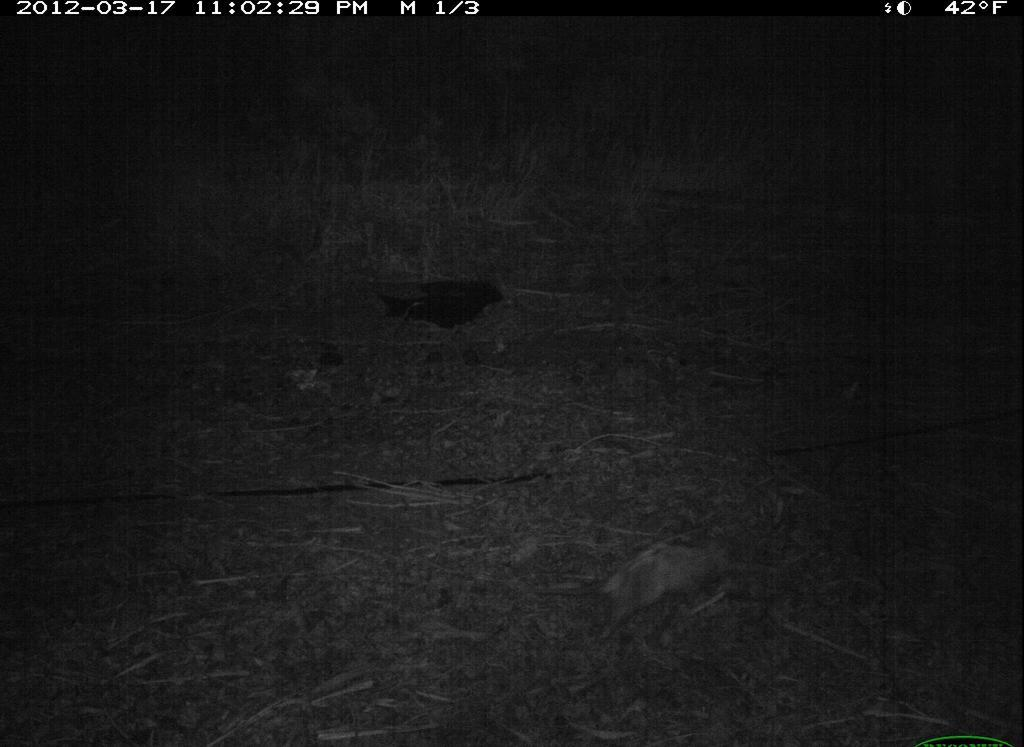opossum: (566, 533, 744, 629)
